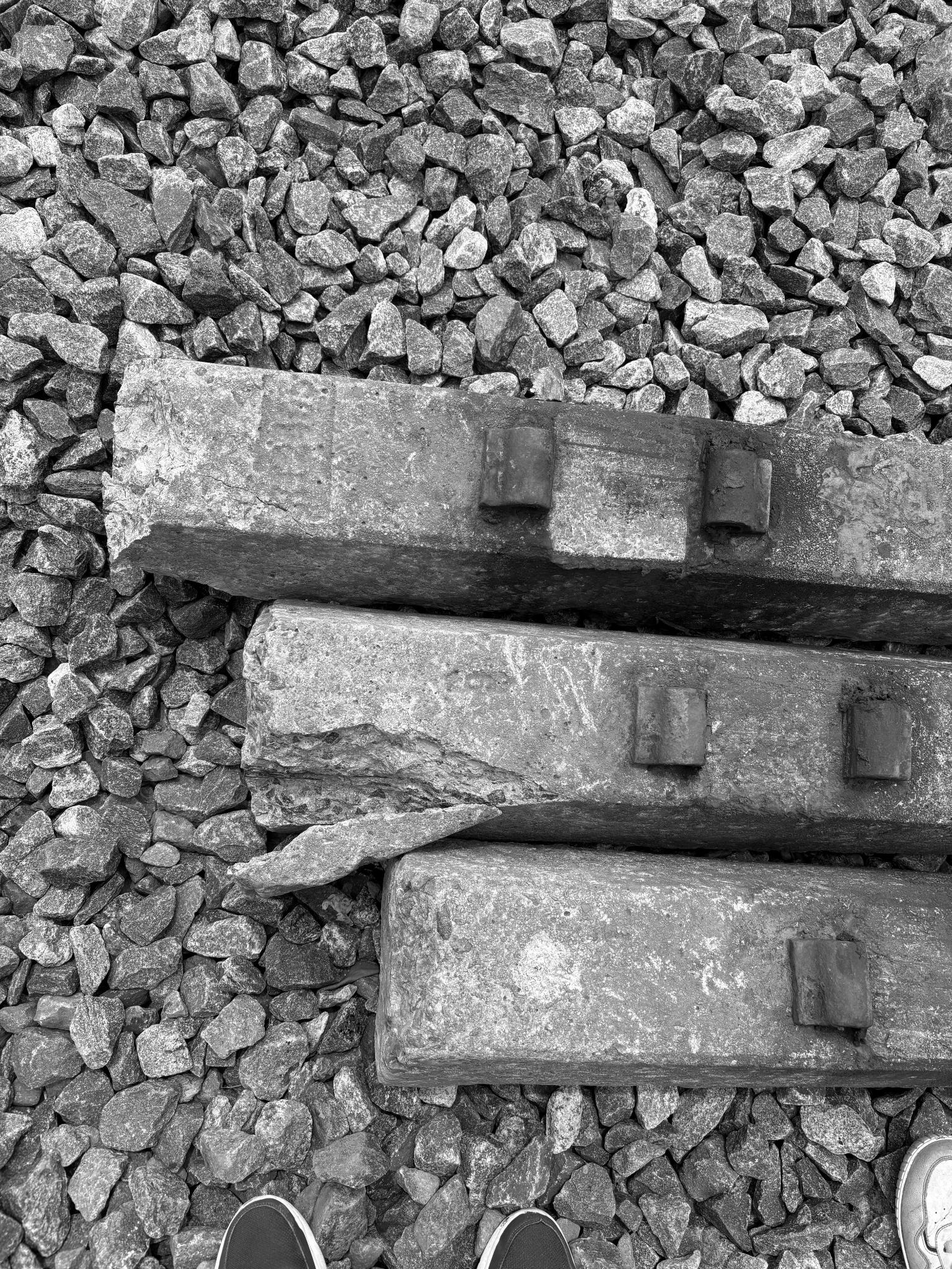damage: (224, 734, 602, 851), (92, 362, 209, 545)
